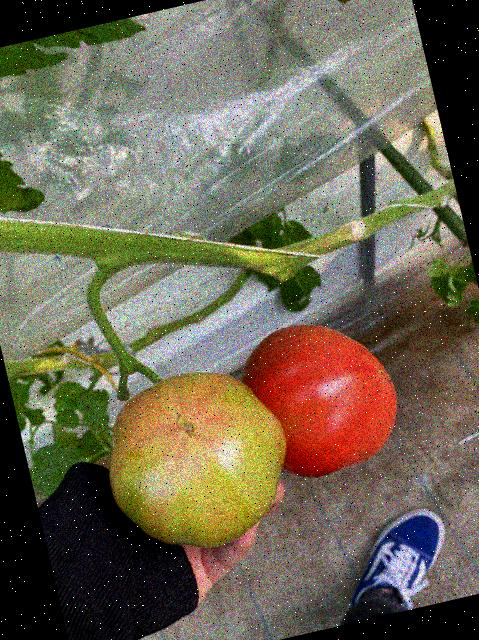b_fully_ripened: (228, 305, 409, 490)
b_half_ripened: (88, 353, 305, 567)
